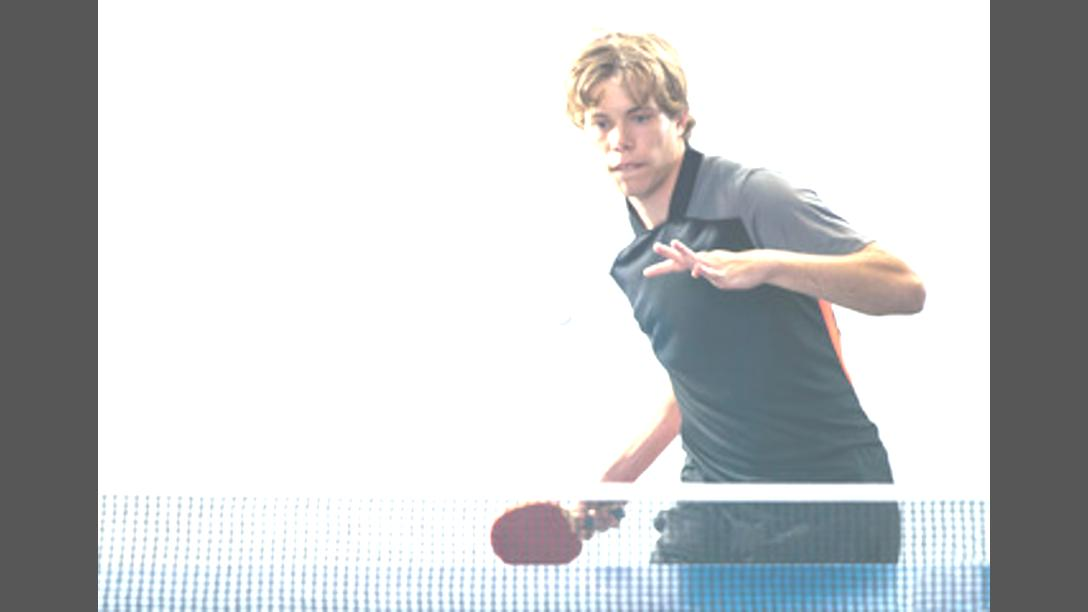Table-Tennis-Ball: (548, 302, 574, 328)
